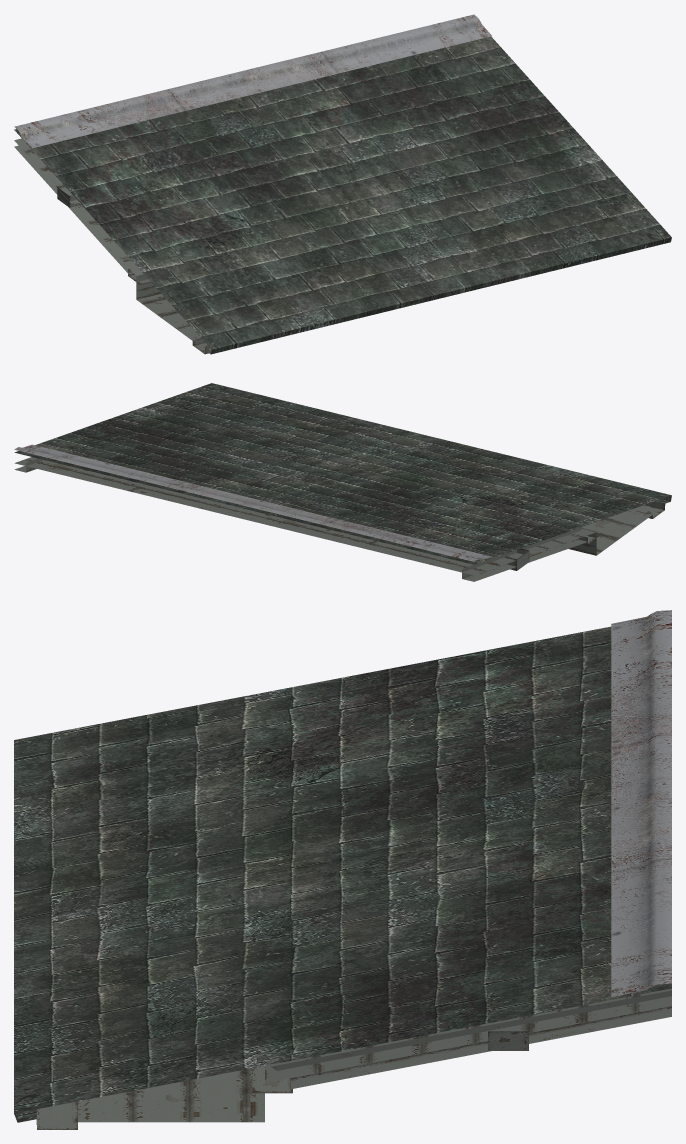
File: SM_Overhang200x400.FBX
The picture shows the model from 3 angles, top to bottom: view 1: azimuth 30°, elevation 25°; view 2: azimuth 150°, elevation 25°; view 3: azimuth 270°, elevation 25°; orthographic projection. The views are drawn at different scales.
Visible parts, largest first — view 1: SM_Overhang200x400; view 2: SM_Overhang200x400; view 3: SM_Overhang200x400.
Part boxes in pixels (x1=…): SM_Overhang200x400: x1=14, y1=14, x2=671, y2=354; SM_Overhang200x400: x1=14, y1=383, x2=671, y2=581; SM_Overhang200x400: x1=14, y1=610, x2=671, y2=1129.
Bounding box in the file's own units: 400 × 73.08 × 298.
